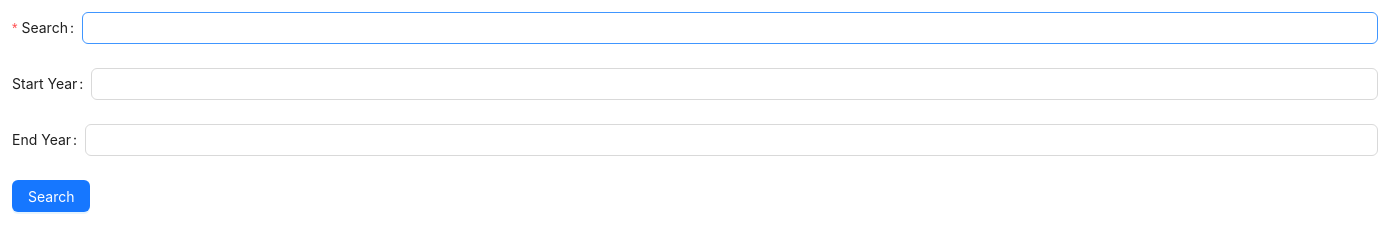
it: SearchBar Component › validates year input correctly
Type "1899" into the field labelled "Start Year".
click(735, 84); type("1899")  # box [91, 68, 1378, 100]
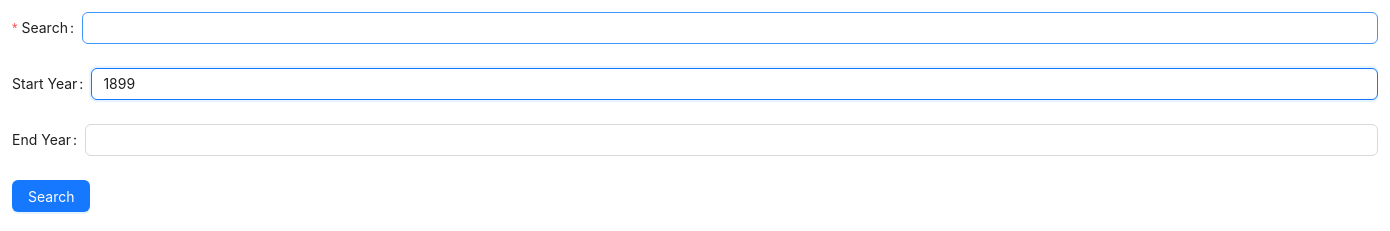
Leave the field labelled "Start Year", box [91, 68, 1378, 100]
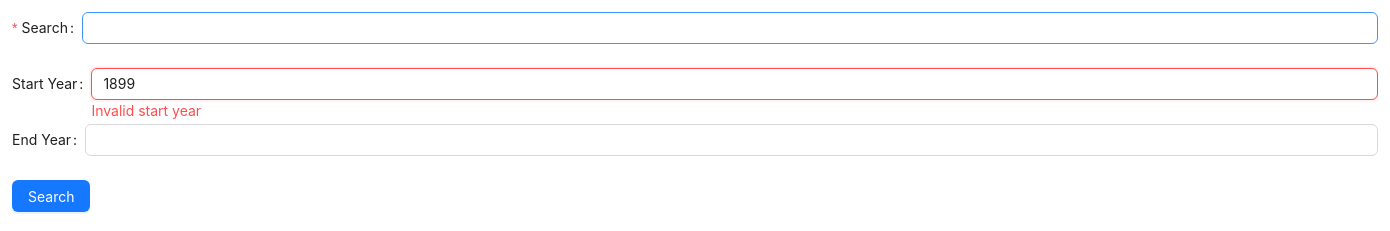
Check: the text "Invalid start year" is shown, box [91, 102, 201, 119]
